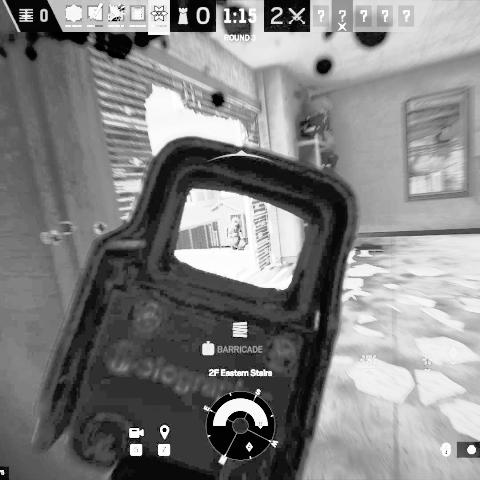Character: (224, 217, 248, 251)
